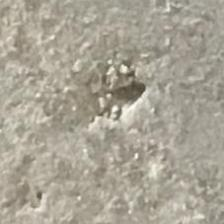Non_Crack: (27, 127, 224, 218)
